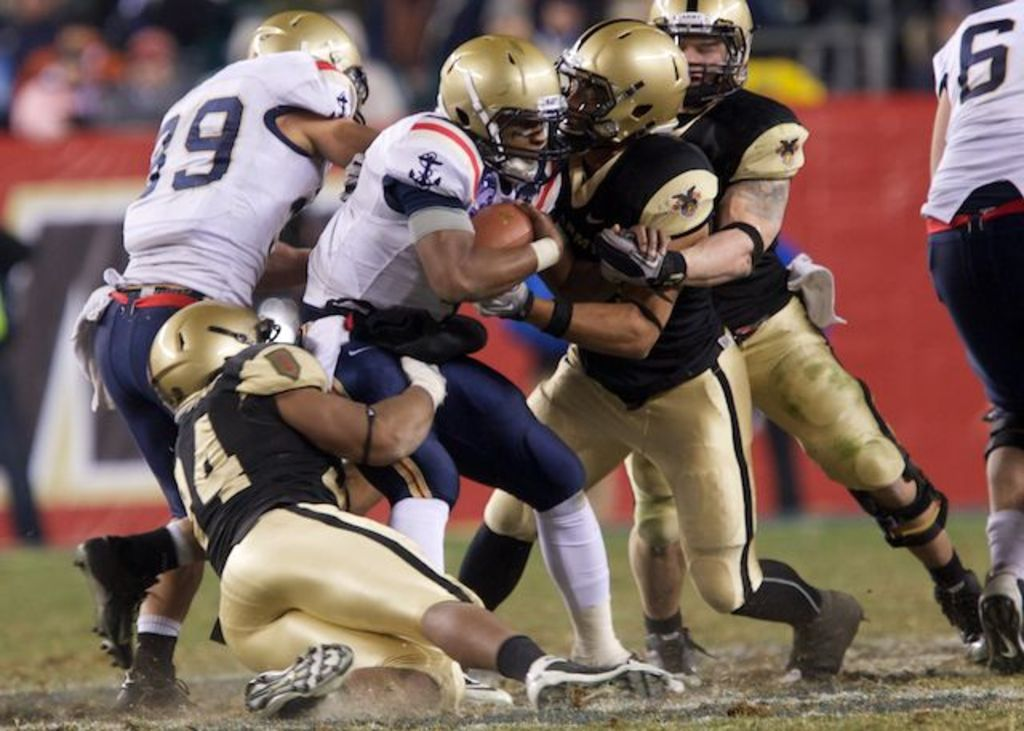Footwear: (75, 526, 149, 686), (530, 653, 677, 725), (242, 641, 366, 726), (786, 589, 864, 693), (106, 661, 205, 717), (973, 569, 1022, 681), (941, 569, 995, 664), (632, 632, 698, 694), (454, 673, 522, 715)
